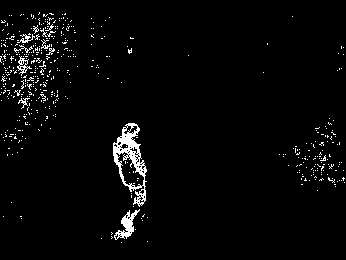person: (107, 121, 149, 243)
